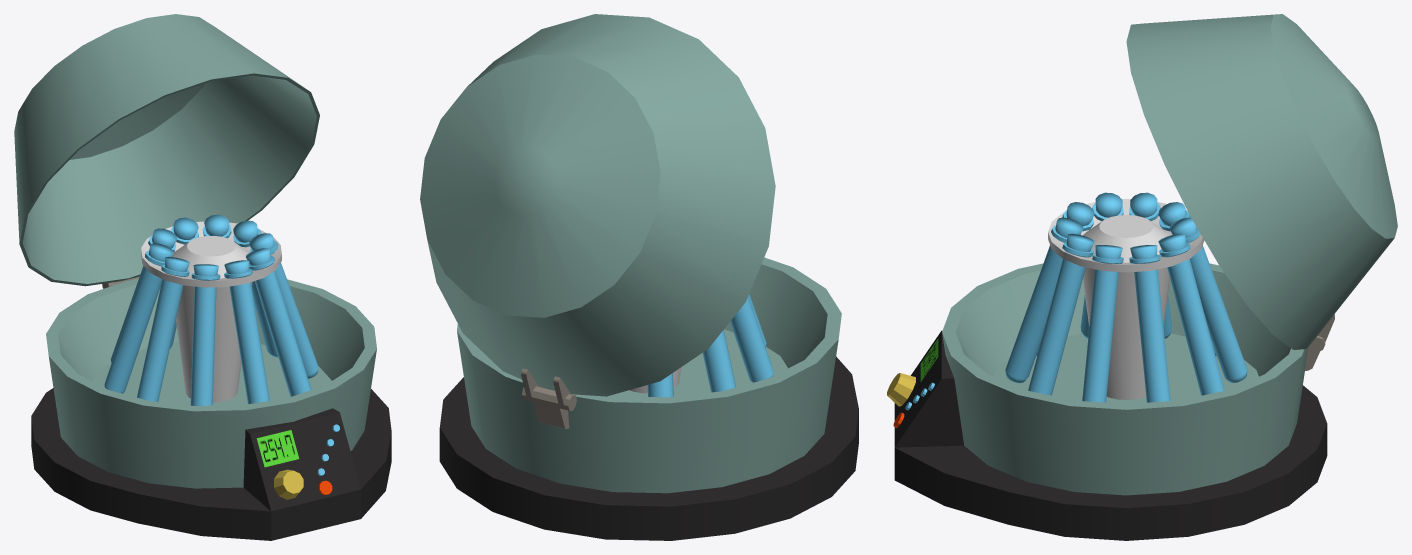
The model's file is Centrifuge.fbx.
3 renders of one model, left to right at view 1: azimuth 30°, elevation 25°; view 2: azimuth 150°, elevation 25°; view 3: azimuth 270°, elevation 25°, orthographic. The views are drawn at different scales.
Visible parts, largest first — view 1: Centrifuge:Centrifuge; view 2: Centrifuge:Centrifuge; view 3: Centrifuge:Centrifuge.
Boxes of the visible parts, box(x1,y1,x2,y2) form: Centrifuge:Centrifuge: box(14, 14, 391, 540); Centrifuge:Centrifuge: box(420, 14, 858, 540); Centrifuge:Centrifuge: box(887, 14, 1397, 540).
Bounding box in the file's own units: 0.4897 × 0.578 × 0.6229.
